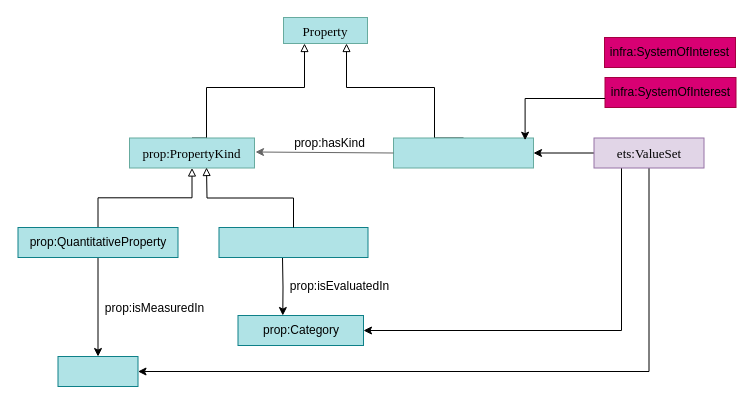
This 753x404 diagram has some shape labels left out. Each missing label, with the centre of its shape:
prop:PropertyOfInterest: point (463, 152)
prop:QualitativeProperty: point (293, 242)
prop:Unit: point (97, 371)
